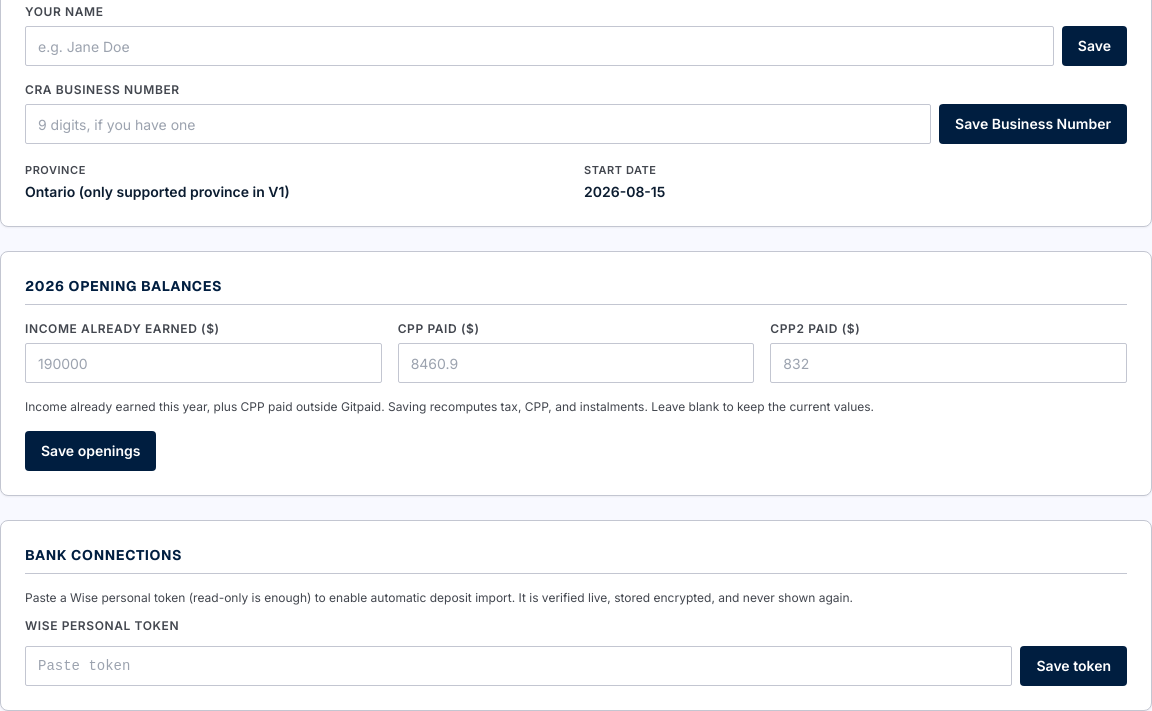
Test: SolePropSettingsView › saves the token without ever displaying it
(page scrolled)
In the password field with placeholder "Paste token": {"x": 519, "y": 666} left=25, top=646, right=1012, bottom=686, type "live-test-token-abc123"
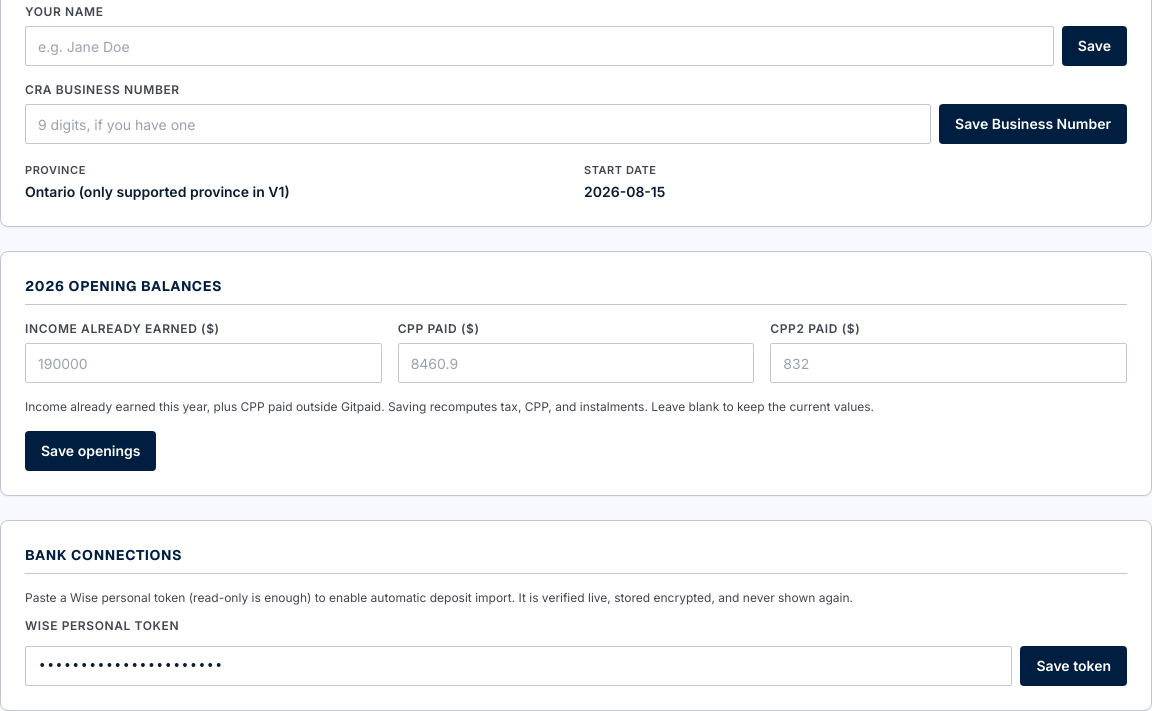
Click the button "Save token": {"x": 1074, "y": 666} left=1020, top=646, right=1127, bottom=686
(page scrolled)
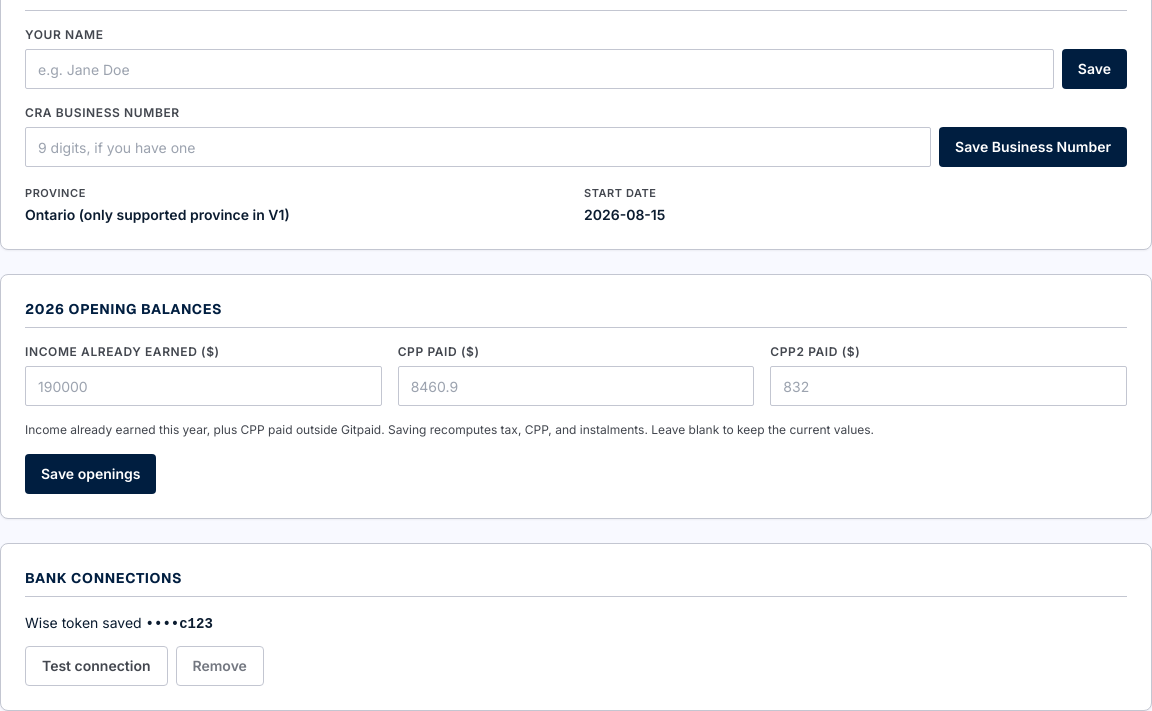
Expected: the text "••••c123" is shown, left=146, top=616, right=213, bottom=632
